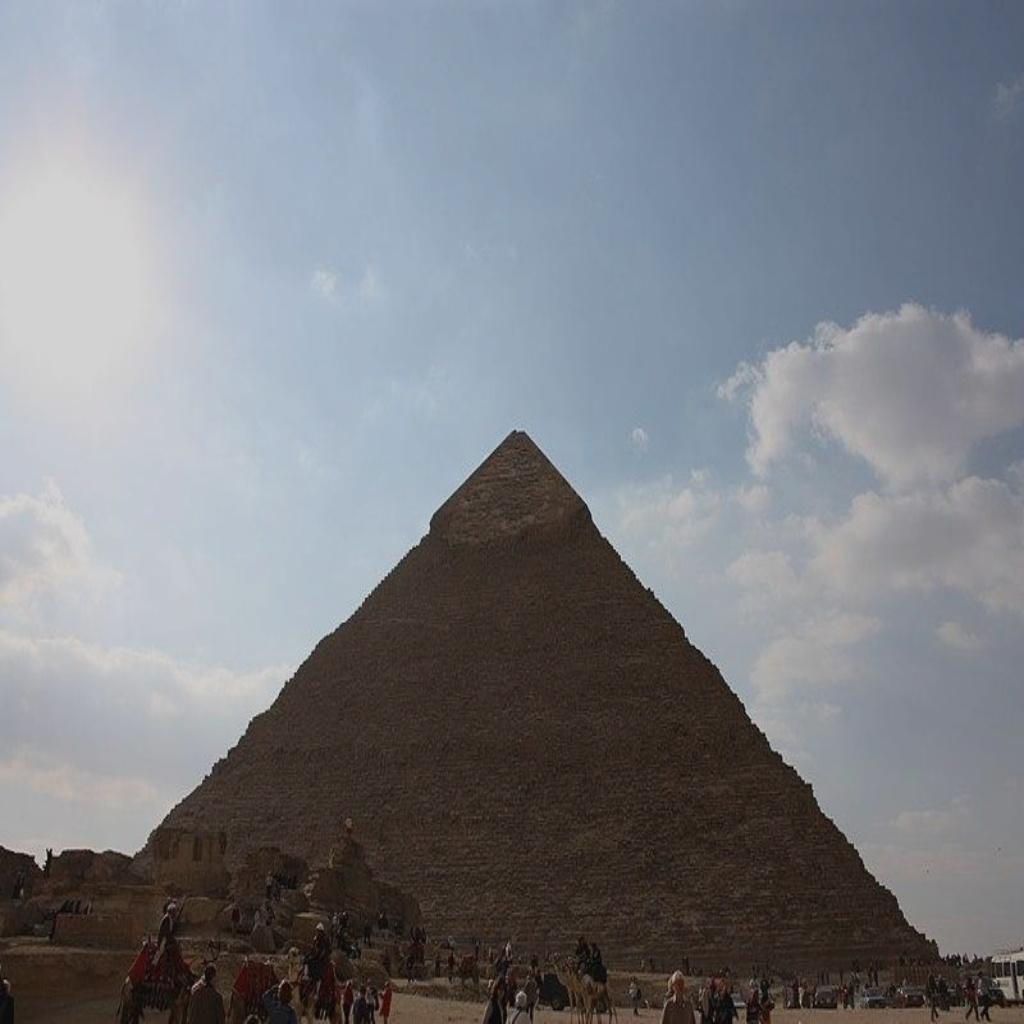Great Pyramids of Giza: (133, 422, 943, 990)
